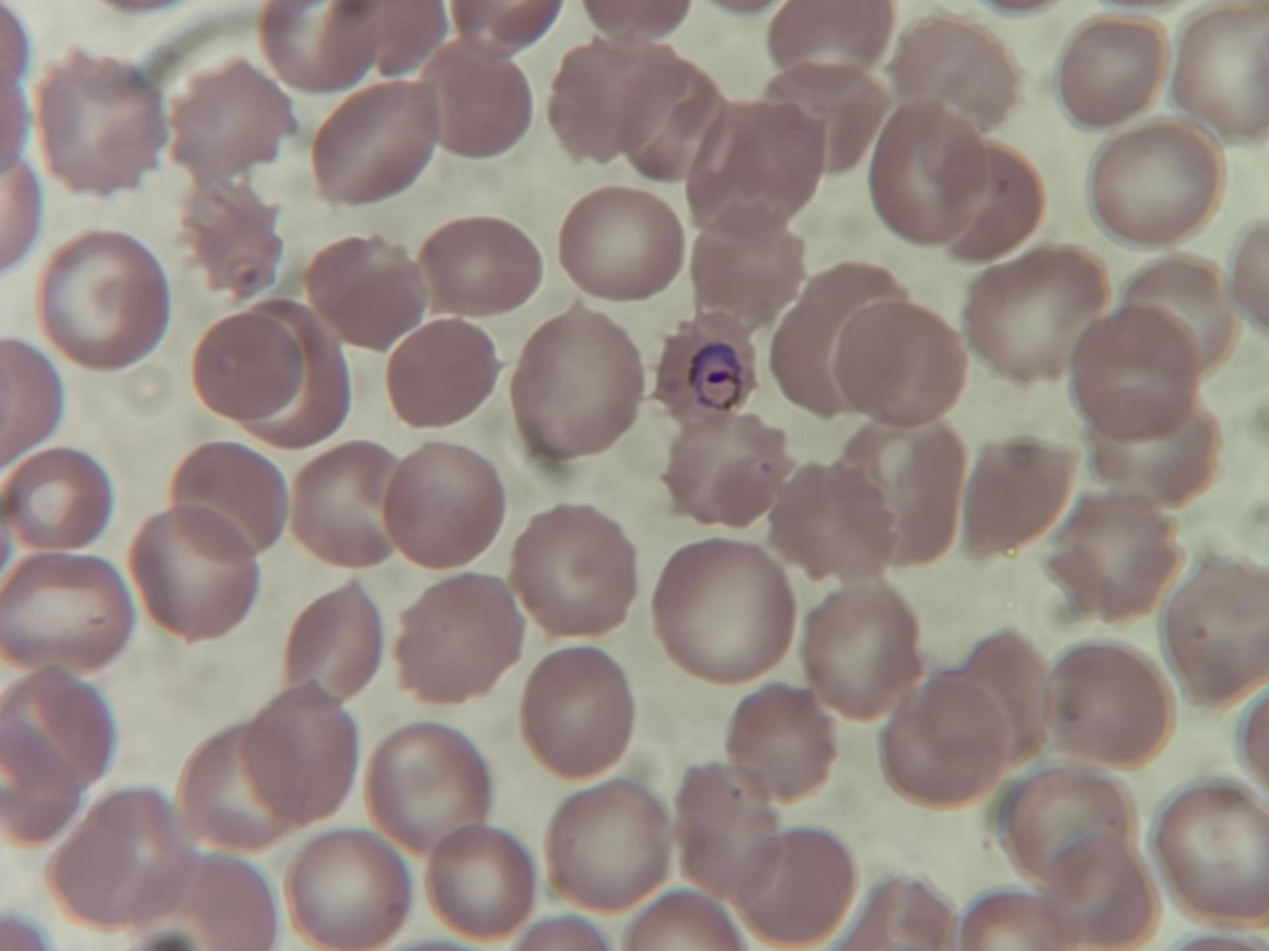Infected: (179, 178, 285, 302), (652, 311, 765, 427)
Uninfected: (508, 305, 644, 459), (769, 263, 902, 418), (550, 39, 703, 169), (651, 539, 792, 680), (960, 245, 1105, 381), (37, 50, 167, 194), (38, 229, 171, 369), (1045, 490, 1182, 619), (828, 300, 964, 428), (237, 686, 358, 829), (130, 506, 259, 640), (1072, 306, 1202, 438), (51, 790, 178, 925), (1087, 118, 1222, 245), (391, 574, 523, 703), (166, 59, 295, 191), (364, 722, 490, 856), (509, 503, 638, 633), (544, 779, 670, 912), (886, 673, 1010, 808), (1002, 765, 1139, 887), (690, 104, 825, 227), (381, 441, 508, 570), (765, 459, 898, 582), (872, 107, 993, 242), (1018, 825, 1155, 944), (798, 582, 919, 716), (1149, 784, 1268, 920), (1042, 640, 1174, 762), (2, 664, 117, 804), (675, 765, 792, 902), (1, 550, 130, 674), (177, 722, 296, 855), (313, 79, 436, 204), (518, 647, 636, 777), (1161, 554, 1269, 696), (861, 421, 968, 564), (555, 184, 685, 301), (660, 412, 787, 526), (287, 440, 400, 567), (306, 231, 427, 348), (286, 828, 408, 944), (732, 830, 854, 946), (1110, 253, 1231, 368), (885, 15, 1014, 122), (960, 439, 1075, 559), (384, 315, 504, 428), (765, 61, 889, 170), (168, 441, 289, 552), (956, 631, 1053, 769), (191, 306, 305, 423), (421, 40, 533, 159), (416, 213, 541, 319), (424, 826, 537, 940), (724, 683, 833, 800), (1173, 3, 1269, 132), (281, 580, 384, 699), (1058, 15, 1168, 125), (689, 219, 804, 324), (3, 444, 112, 551), (1105, 414, 1220, 512), (262, 2, 381, 91), (168, 853, 276, 950), (768, 2, 892, 70)
